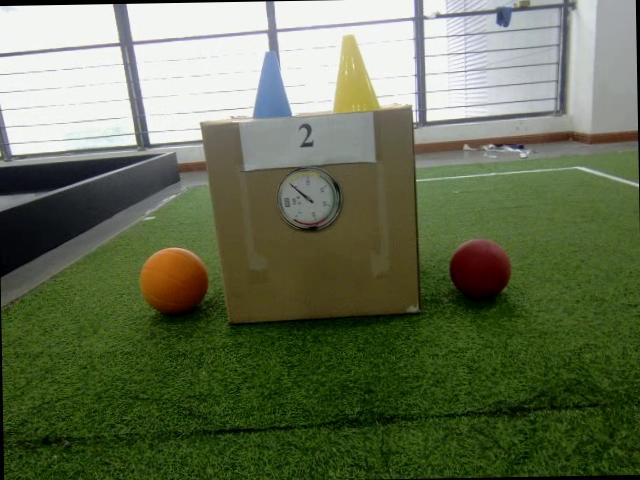2: (298, 122, 314, 147)
Dashboard: (276, 166, 343, 232)
blue_barrel: (250, 50, 294, 120)
orange_ball: (138, 245, 211, 315)
red_ball: (448, 236, 514, 300)
ssi: (284, 197, 290, 207)
yellow_barrel: (331, 32, 382, 114)
